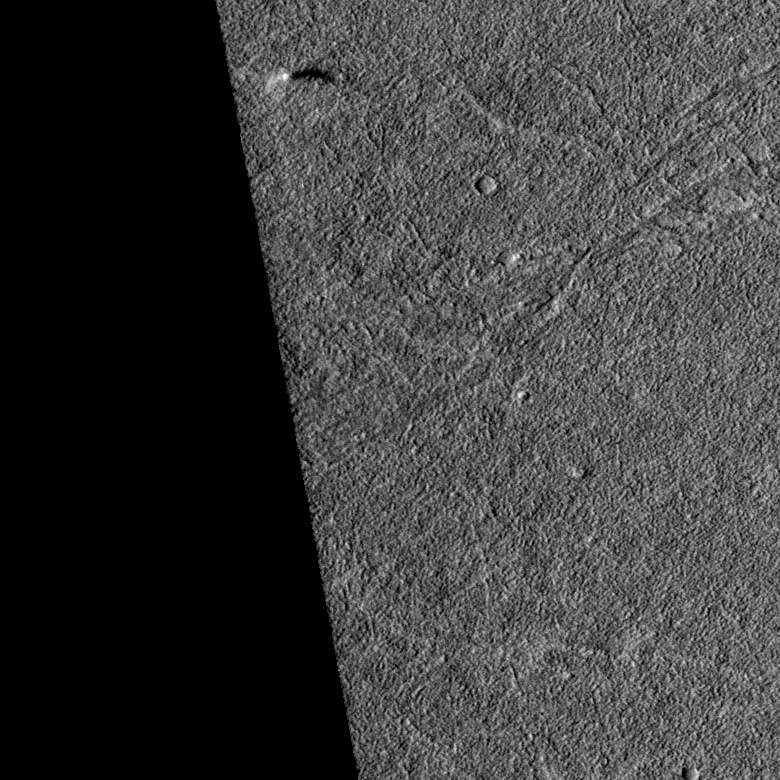dust_devil: (262, 64, 336, 93)
